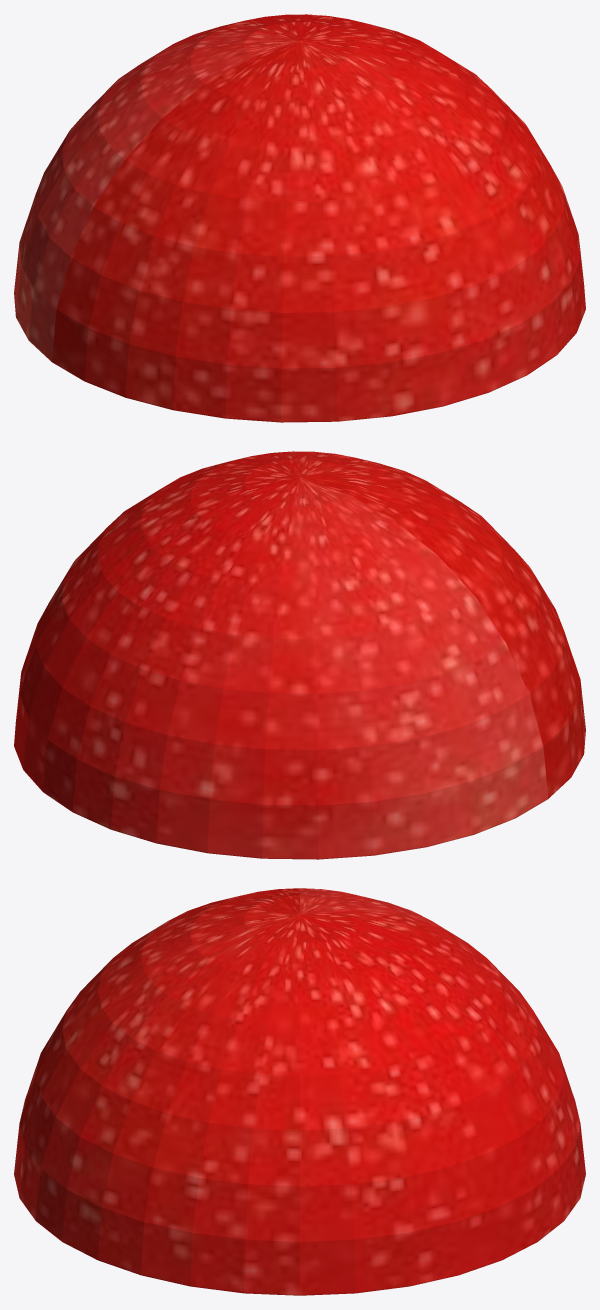
Rendered from tomaatje.glb.
The picture shows the model from 3 angles, top to bottom: view 1: azimuth 30°, elevation 25°; view 2: azimuth 150°, elevation 25°; view 3: azimuth 270°, elevation 25°; orthographic projection.
Visible parts, largest first — view 1: Sphere; view 2: Sphere; view 3: Sphere.
Part boxes in pixels (x1=…): Sphere: x1=14, y1=14, x2=585, y2=422; Sphere: x1=14, y1=451, x2=585, y2=859; Sphere: x1=14, y1=888, x2=585, y2=1295.
Bounding box in the file's own units: 0.292 × 0.1466 × 0.292.
Materials: 2 (2 with a texture image).
